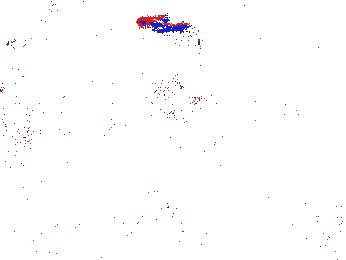X-ray fish: (142, 76, 206, 114)
red belly glassfish: (135, 14, 189, 33), (290, 37, 323, 59)
